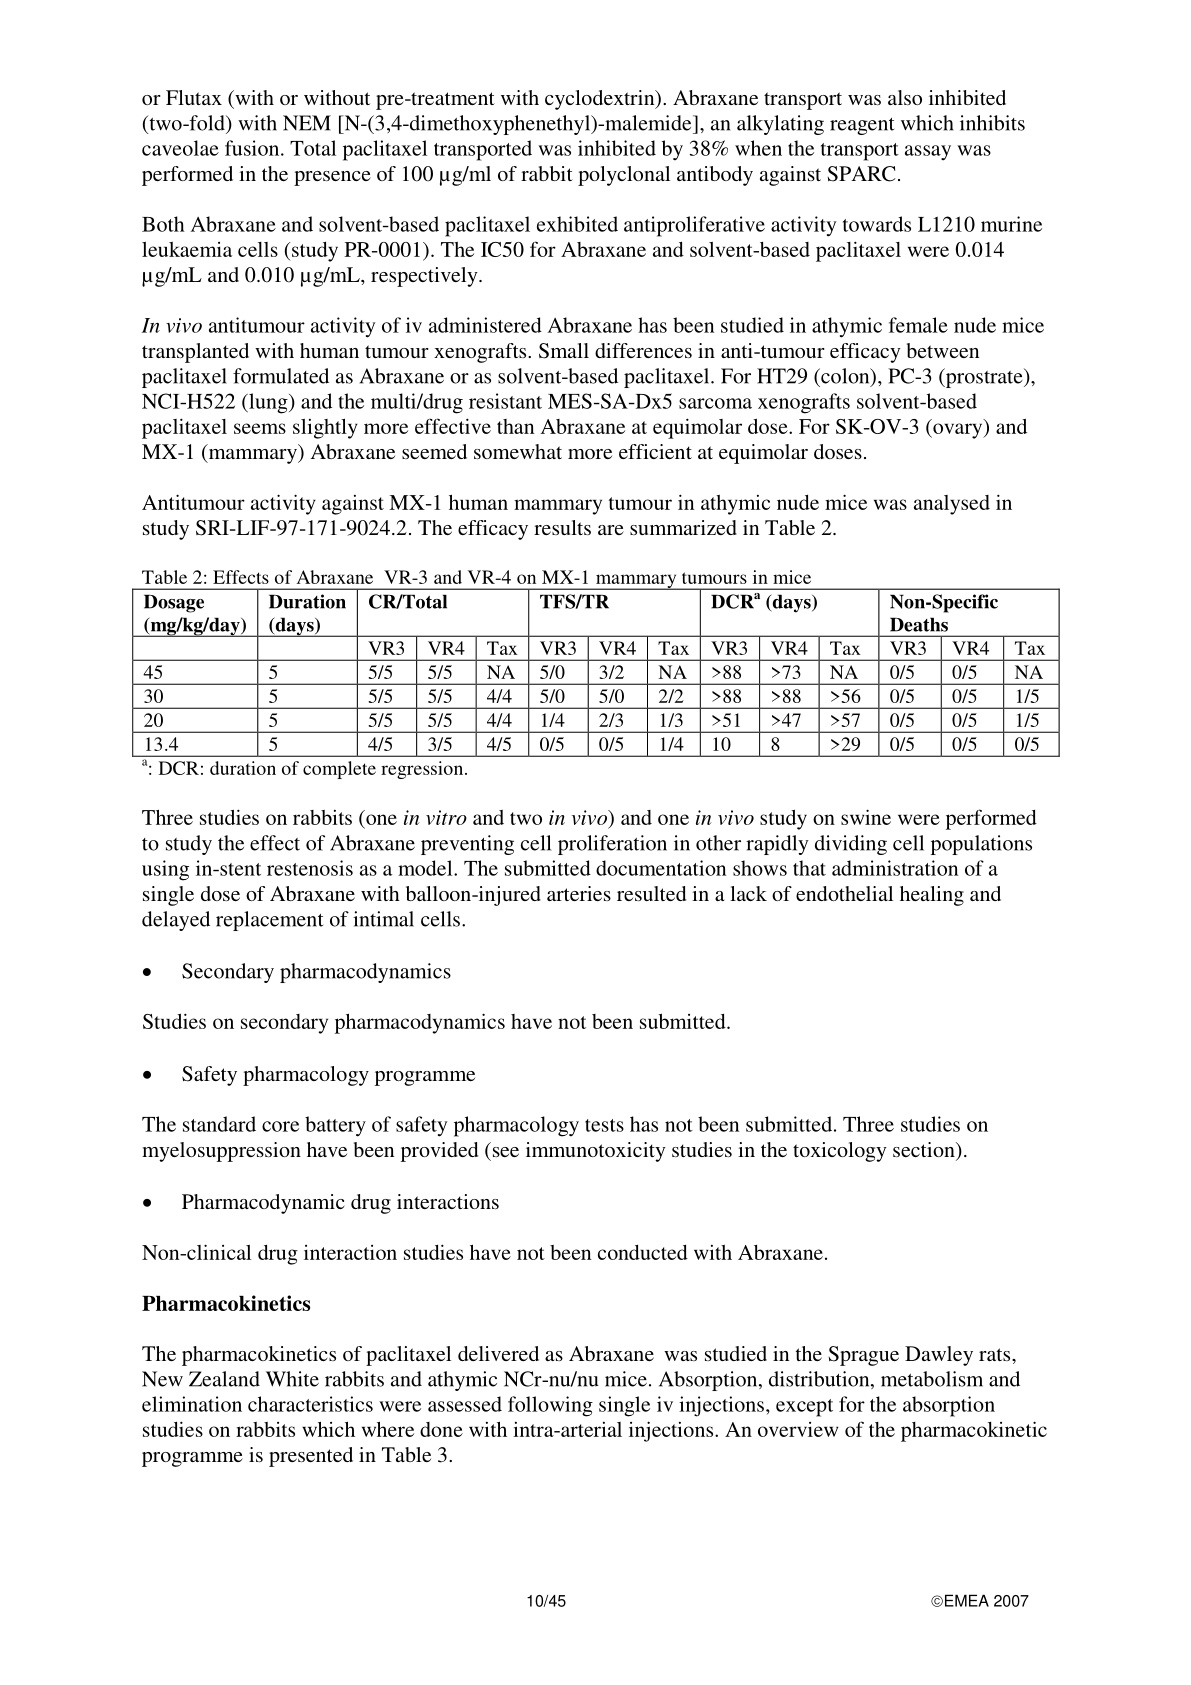merged_cells: (131, 587, 1060, 758)
